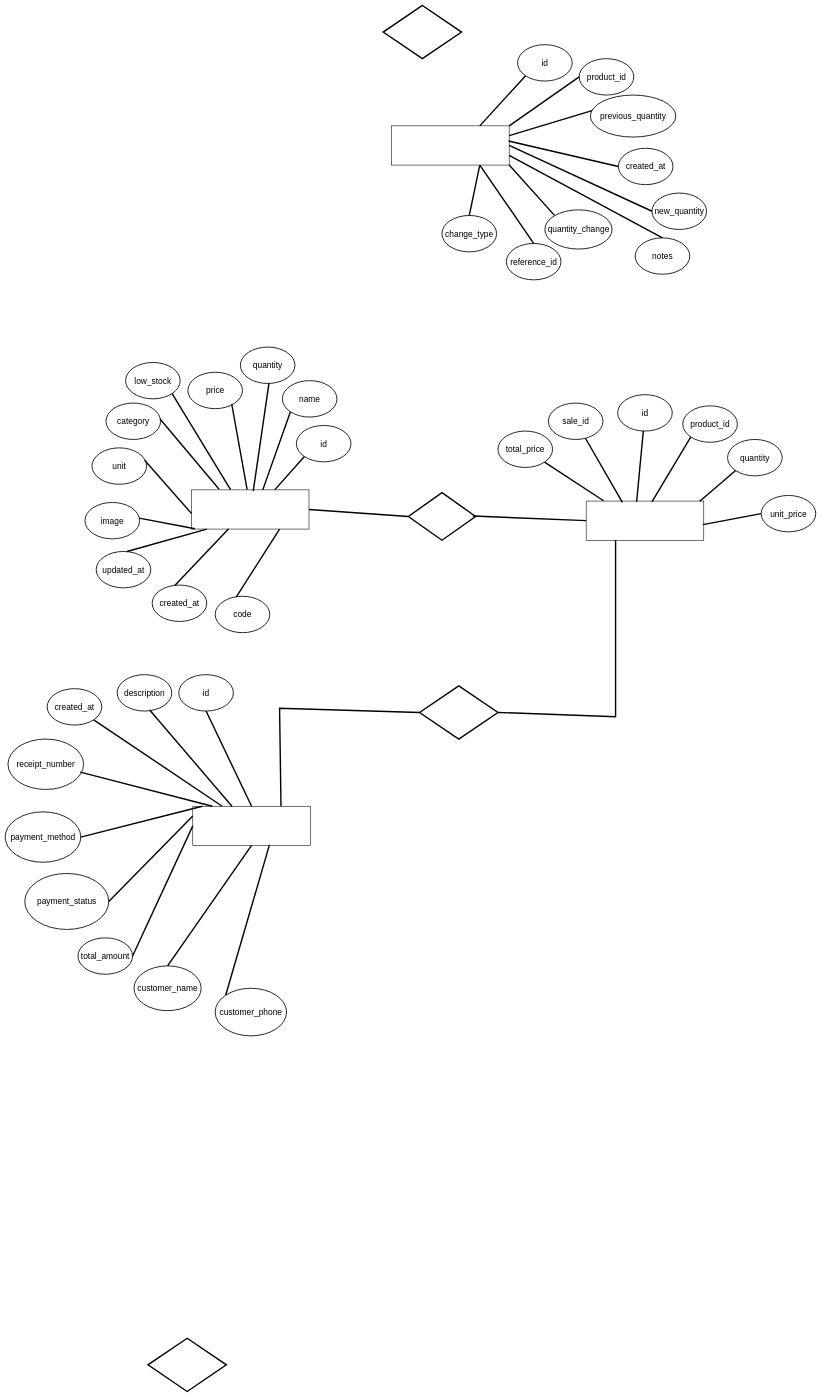
Some shapes in this 821 by 1397 pixel diagram are drawn without their labels. The shapes that lost their labels are listed below. From the top down, each one's box as (x1, y1, x2, y2) in pixels, then its label:
(391, 125, 509, 165): inventories
(191, 489, 309, 529): products
(586, 501, 704, 540): sale_items
(192, 806, 311, 846): sales
